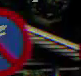No waiting: (0, 5, 29, 75)
